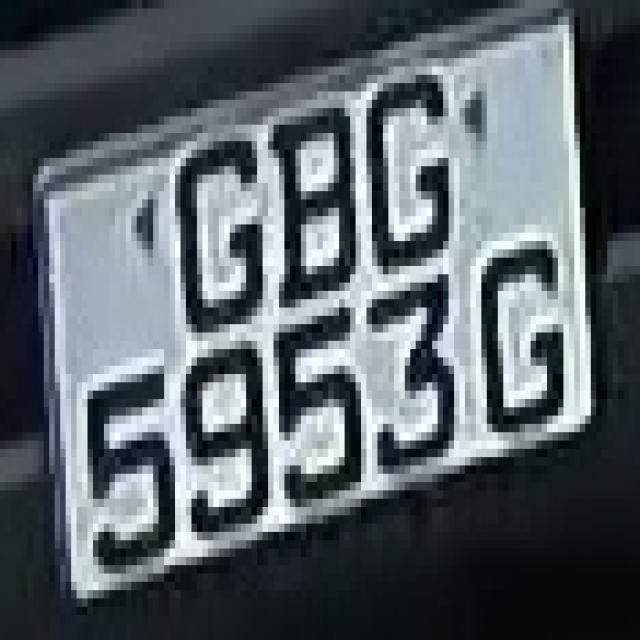3: (350, 249, 465, 499)
5: (76, 349, 180, 590), (268, 291, 367, 515)
9: (164, 332, 268, 557)
B: (262, 92, 366, 324)
G: (153, 108, 268, 341), (459, 216, 564, 457), (361, 58, 460, 291)
